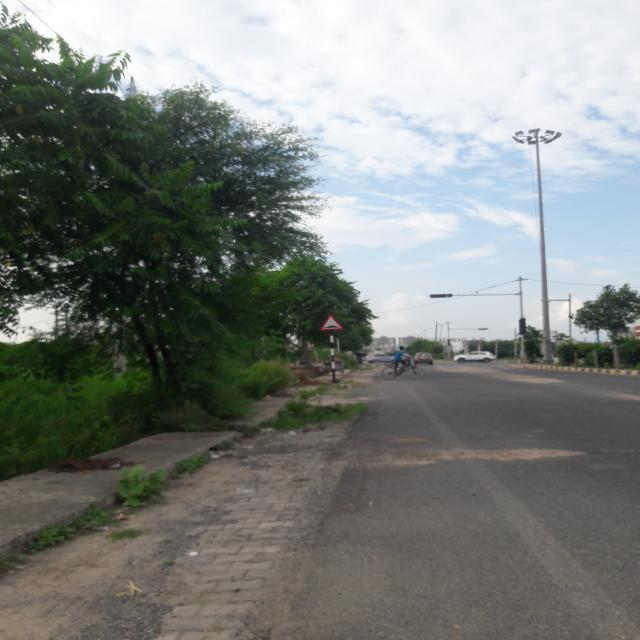hump or rough road: (319, 314, 344, 331)
